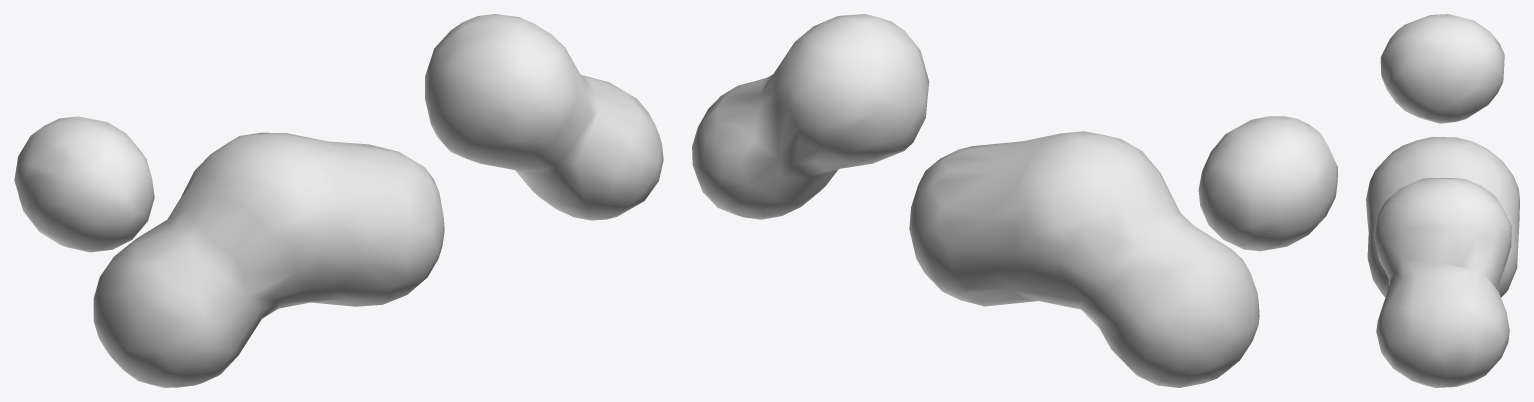
The model's file is cloud_4.fbx.
3 views of the same model, side by side, from view 1: azimuth 30°, elevation 25°; view 2: azimuth 150°, elevation 25°; view 3: azimuth 270°, elevation 25° (orthographic). The views are drawn at different scales.
Visible parts, largest first — view 1: cloud_4; view 2: cloud_4; view 3: cloud_4.
Boxes of the visible parts, bbox=[...] form: cloud_4: bbox=[14, 14, 663, 387]; cloud_4: bbox=[692, 14, 1337, 387]; cloud_4: bbox=[1366, 14, 1519, 387].
Bounding box in the file's own units: 383 × 162 × 103.
